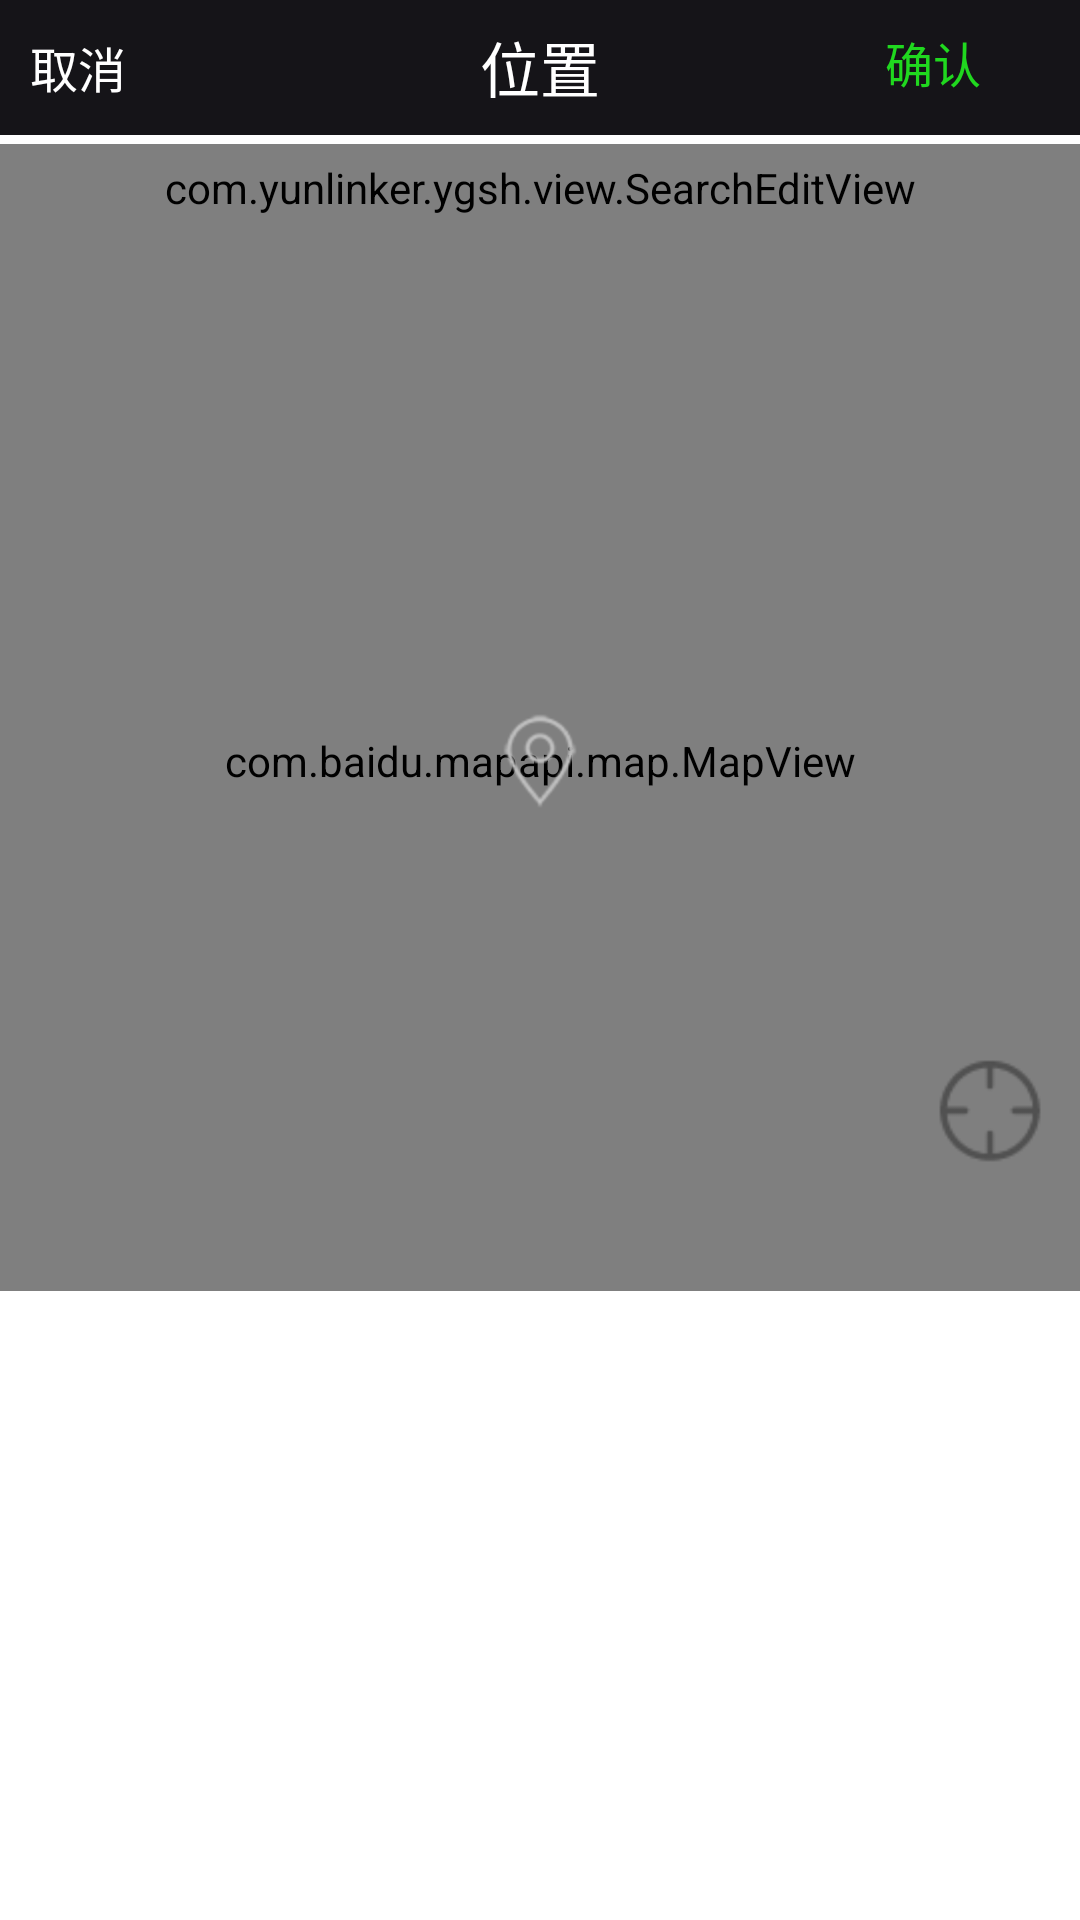

Screen size 1080w x 1920h. Icon name, then its center in pixels as (x,y):
marka: (540,760)
